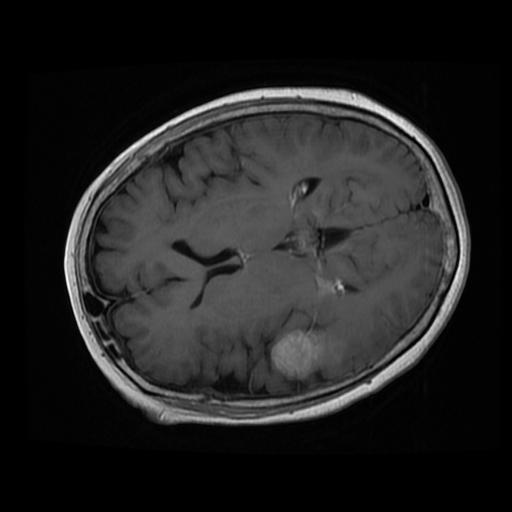meningioma: (270, 328, 318, 379)
